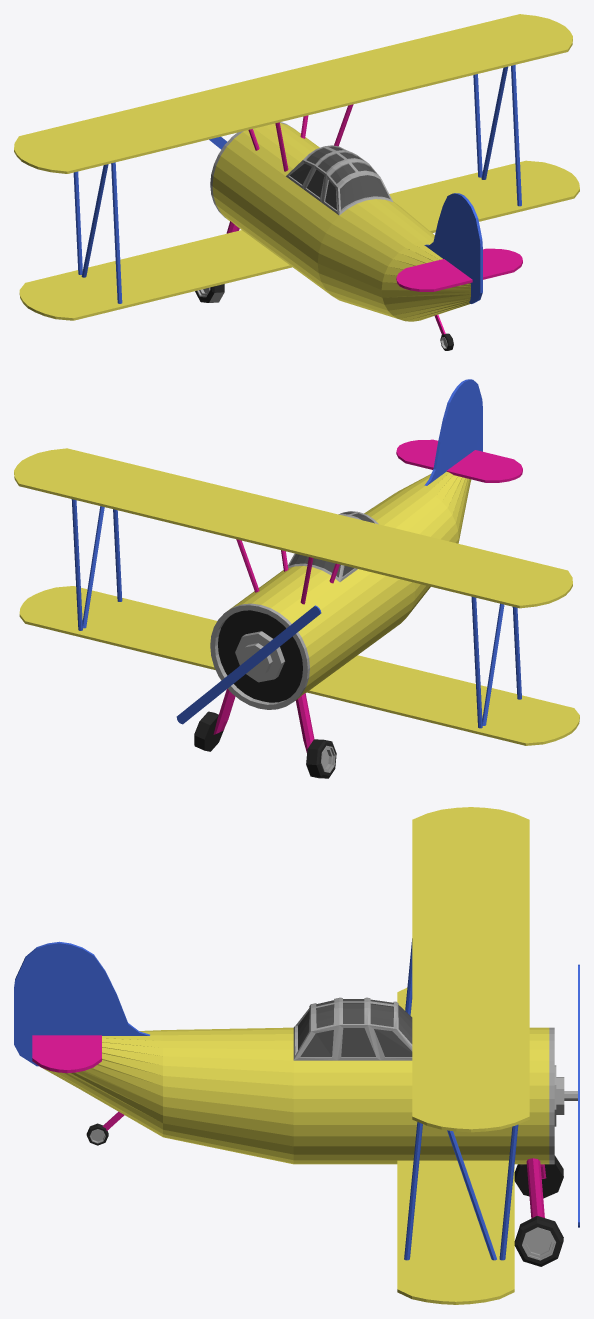
3 renders of one model, top to bottom at view 1: azimuth 30°, elevation 25°; view 2: azimuth 150°, elevation 25°; view 3: azimuth 270°, elevation 25°, orthographic. The views are drawn at different scales.
Visible parts, largest first — view 1: Plane, Wings_Upper, Wings_Lower, Tail_Wing, Tail_Wing_2, Brace_3, Brace_2, Brace, Brace_5; view 2: Wings_Upper, Plane, Wings_Lower, Tail_Wing, Tail_Wing_2, Propeller, Front_Wheels, Driveline, Brace, Brace_2, Front_Wheel_Brace, Brace_3 (+1 smaller); view 3: Plane, Wings_Upper, Wings_Lower, Tail_Wing, Front_Wheels, Tail_Wing_2, Brace_3, Front_Wheel_Brace, Brace, Brace_2.
Boxes of the visible parts, x1,y1,x2,y2 form: Plane: (210,122,470,321); Wings_Upper: (14,14,572,173); Wings_Lower: (19,160,579,320); Tail_Wing: (424,193,482,303); Tail_Wing_2: (396,248,522,291); Brace_3: (111,65,521,303); Brace_2: (81,66,508,277); Brace: (73,74,482,274); Brace_5: (275,104,353,171); Wings_Upper: (14,448,572,608); Plane: (210,471,471,709); Wings_Lower: (19,586,579,745); Tail_Wing: (424,379,482,485); Tail_Wing_2: (396,439,522,482); Propeller: (176,605,321,724); Front_Wheels: (194,711,336,778); Driveline: (235,631,284,682); Brace: (71,499,482,728); Brace_2: (82,506,504,725); Front_Wheel_Brace: (213,689,314,752); Brace_3: (113,509,521,699); Plane: (43,997,554,1164); Wings_Upper: (412,807,529,1132); Wings_Lower: (397,988,514,1304); Tail_Wing: (14,941,149,1066); Front_Wheels: (514,1155,563,1266); Tail_Wing_2: (32,1035,101,1073); Brace_3: (404,938,422,1260); Front_Wheel_Brace: (526,1158,546,1218); Brace: (499,1124,518,1260); Brace_2: (447,1130,496,1260).
Size of the model in its own units: 1114 by 466 by 827.
